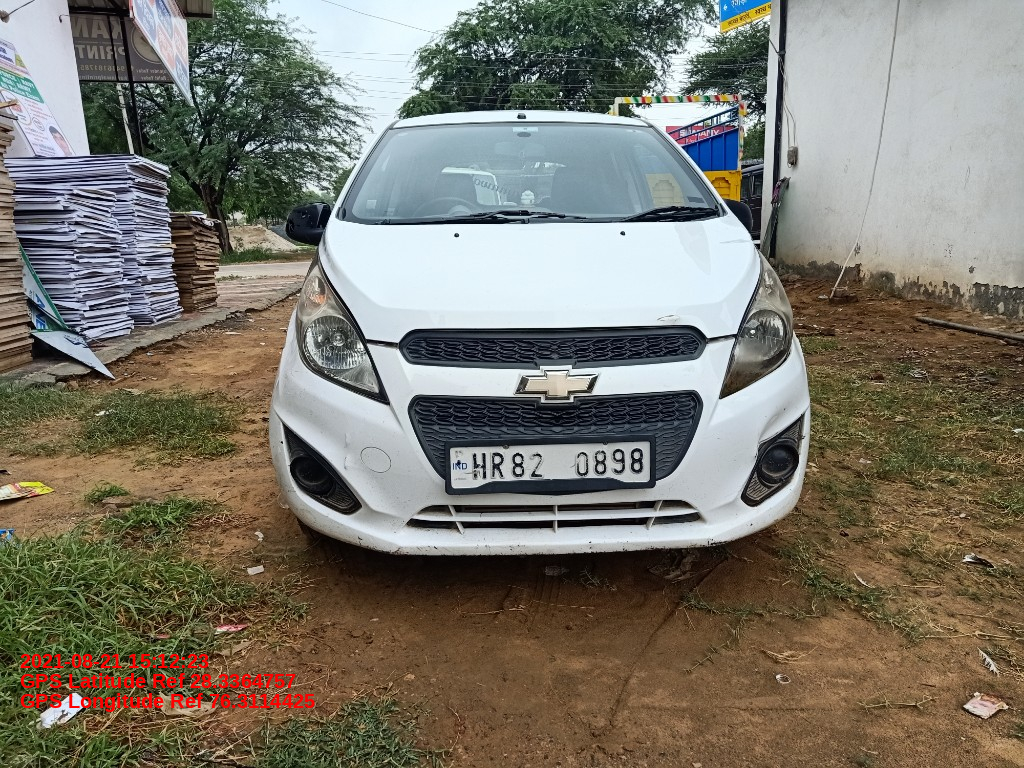Cracked: (339, 430, 353, 475)
Pressed: (748, 402, 804, 442)
Scratched: (464, 538, 687, 554), (277, 369, 307, 411), (353, 535, 409, 557), (692, 533, 737, 546), (656, 310, 686, 327), (416, 543, 448, 556), (272, 438, 287, 453), (747, 519, 762, 530)
